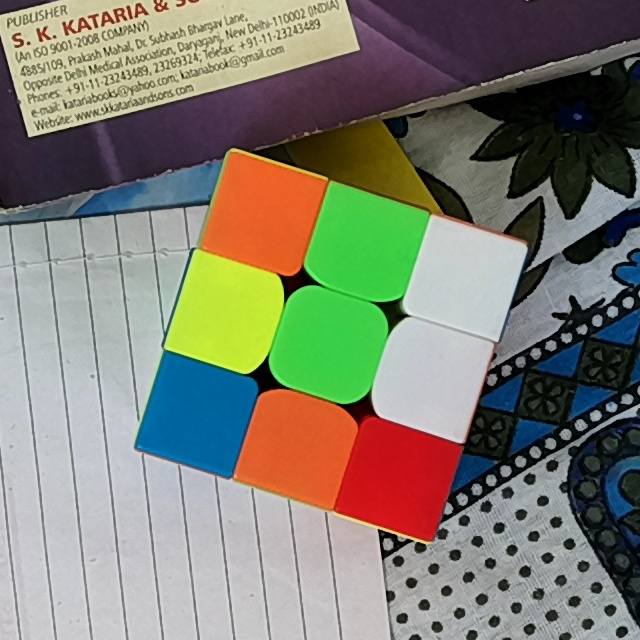tile: (287, 305, 371, 382), (222, 176, 301, 253), (187, 274, 266, 351), (158, 377, 237, 454), (390, 340, 471, 415), (321, 211, 404, 283), (254, 411, 338, 482), (356, 442, 439, 513), (425, 244, 504, 318)
